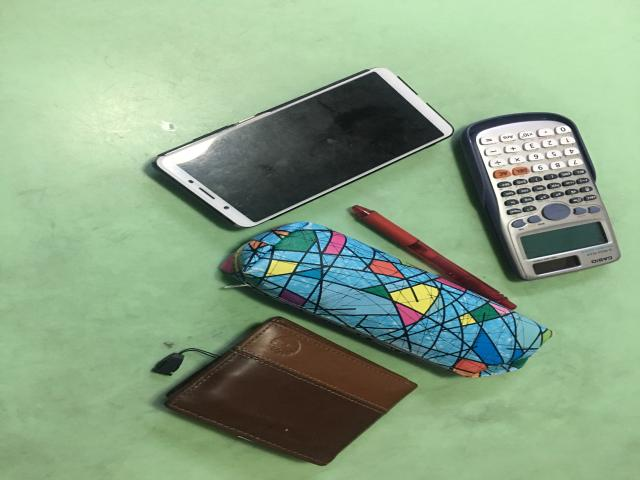Mobile phone: (155, 68, 453, 227)
Pen: (352, 205, 517, 309)
Wallet: (165, 317, 417, 465)
